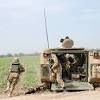uniform: (42, 45, 66, 95), (82, 44, 100, 87), (5, 53, 22, 97)
